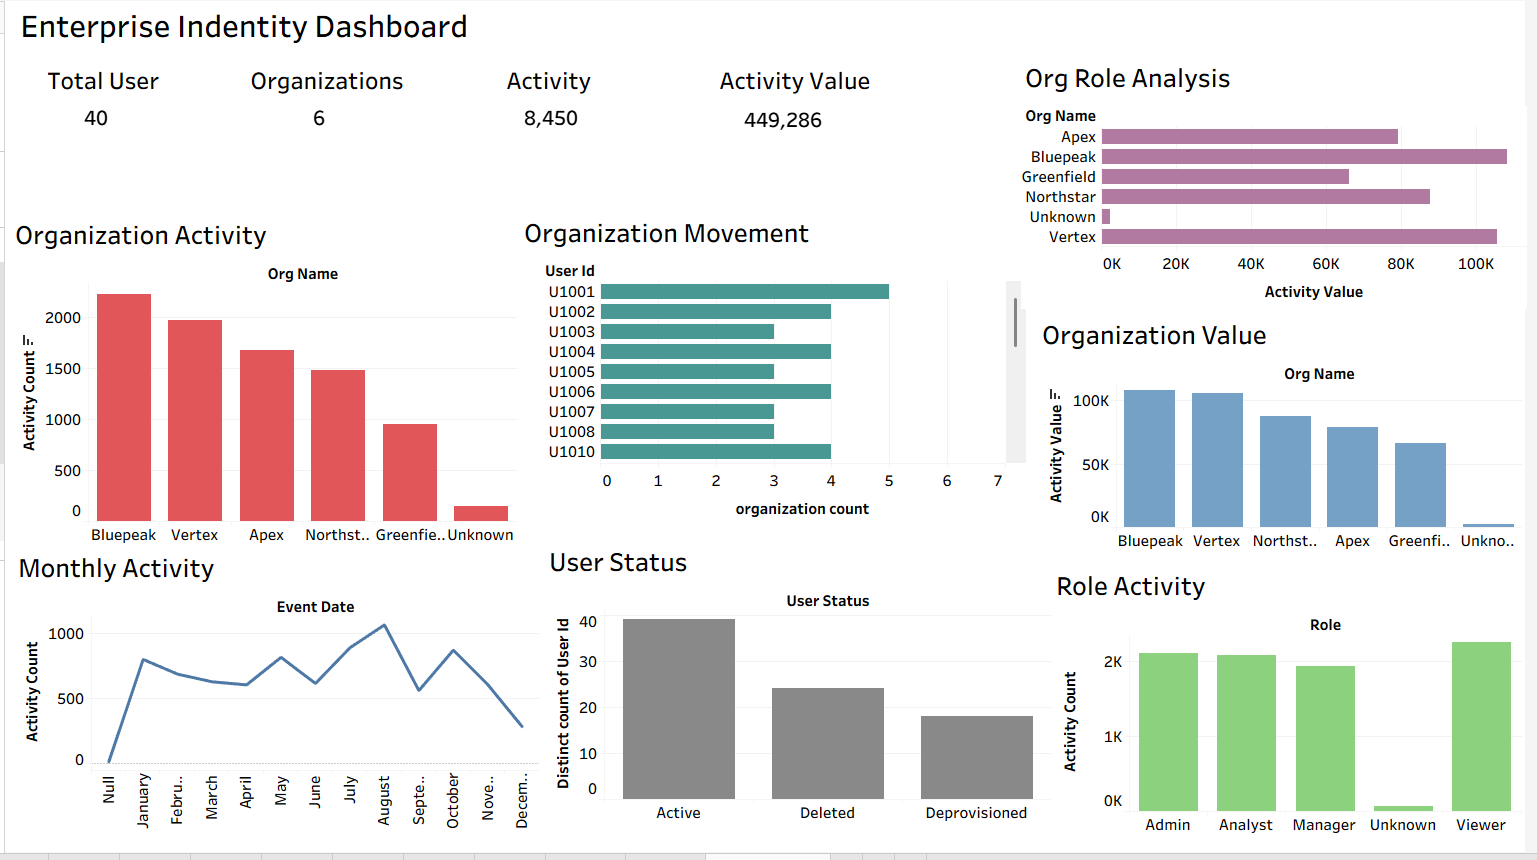

Layout of this report page (visuals, bound fields, positions):
{"tool":"tableau","page":{"name":"Dashboard 1","canvas":[1520,860],"ordinal":0},"visuals":[{"type":"title","box":[8,8,1504,49]},{"type":"worksheet","title":"Sheet 10","mark":"Automatic","rows":["org_name"],"cols":["activity_value"],"box":[1016,64,506,254]},{"type":"text","box":[39,72,119,32]},{"type":"text","box":[242,72,161,32]},{"type":"text","box":[498,72,100,32]},{"type":"text","box":[711,72,158,32]},{"type":"worksheet","title":"Sheet 1","mark":"Automatic","box":[47,112,99,37]},{"type":"worksheet","title":"Sheet 2","mark":"Automatic","box":[264,112,68,43]},{"type":"worksheet","title":"Sheet 3","mark":"Automatic","box":[497,112,171,76]},{"type":"worksheet","title":"Sheet 4","mark":"Automatic","box":[721,114,259,148]},{"type":"worksheet","title":"Sheet 11","mark":"Automatic","rows":["user_id"],"cols":["Calculation_0953864363282432"],"box":[515,219,506,315]},{"type":"worksheet","title":"Sheet 6","mark":"Automatic","rows":["activity_count"],"cols":["org_name"],"box":[6,221,506,333]},{"type":"worksheet","title":"Sheet 7","mark":"Automatic","rows":["activity_value"],"cols":["org_name"],"box":[1033,321,484,239]},{"type":"worksheet","title":"Sheet 5","mark":"Automatic","rows":["user_id"],"cols":["user_status"],"box":[540,548,506,284]},{"type":"worksheet","title":"Sheet 9","mark":"Automatic","rows":["activity_count"],"cols":["event_date"],"box":[9,554,525,284]},{"type":"worksheet","title":"Sheet 8","mark":"Automatic","rows":["activity_count"],"cols":["role"],"box":[1047,572,470,272]}]}

Visuals, with their boxes in screenshot pixels (x1, y1, x2, y2), scaled from the page's 1520x860 canvas onto the 1537x860 screenshot:
title: bbox=(8, 8, 1529, 57)
"Sheet 10" worksheet: bbox=(1027, 64, 1536, 318)
text: bbox=(39, 72, 160, 104)
text: bbox=(245, 72, 408, 104)
text: bbox=(504, 72, 605, 104)
text: bbox=(719, 72, 879, 104)
"Sheet 1" worksheet: bbox=(48, 112, 148, 149)
"Sheet 2" worksheet: bbox=(267, 112, 336, 155)
"Sheet 3" worksheet: bbox=(503, 112, 675, 188)
"Sheet 4" worksheet: bbox=(729, 114, 991, 262)
"Sheet 11" worksheet: bbox=(521, 219, 1032, 534)
"Sheet 6" worksheet: bbox=(6, 221, 518, 554)
"Sheet 7" worksheet: bbox=(1045, 321, 1534, 560)
"Sheet 5" worksheet: bbox=(546, 548, 1058, 832)
"Sheet 9" worksheet: bbox=(9, 554, 540, 838)
"Sheet 8" worksheet: bbox=(1059, 572, 1534, 844)
